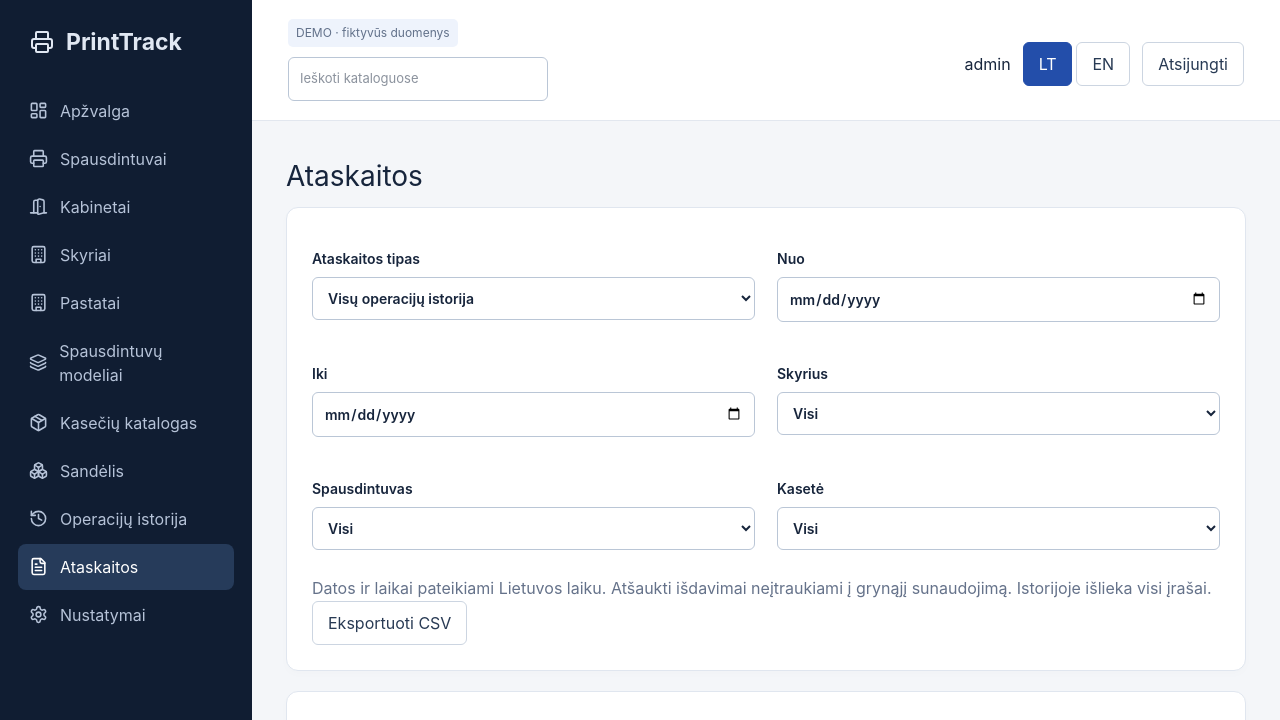
Test: internationalization › resets report selection when navigating to transaction history
This screenshot has width=1280, height=720.
Select "Dabartinis likutis" in the dropdown labelled "Ataskaitos tipas" at x=534, y=298, box [312,276,755,320]
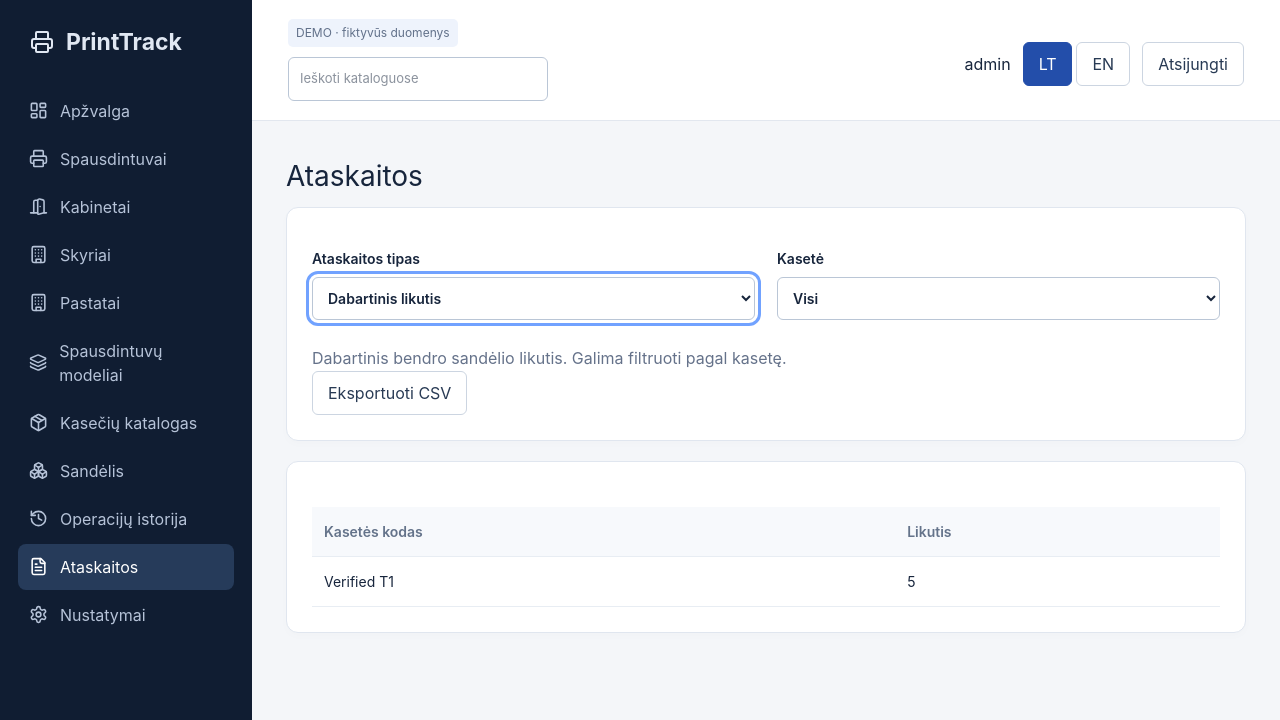
Click the link "Operacijų istorija".
click(108, 518)  # box [29,508,187,528]
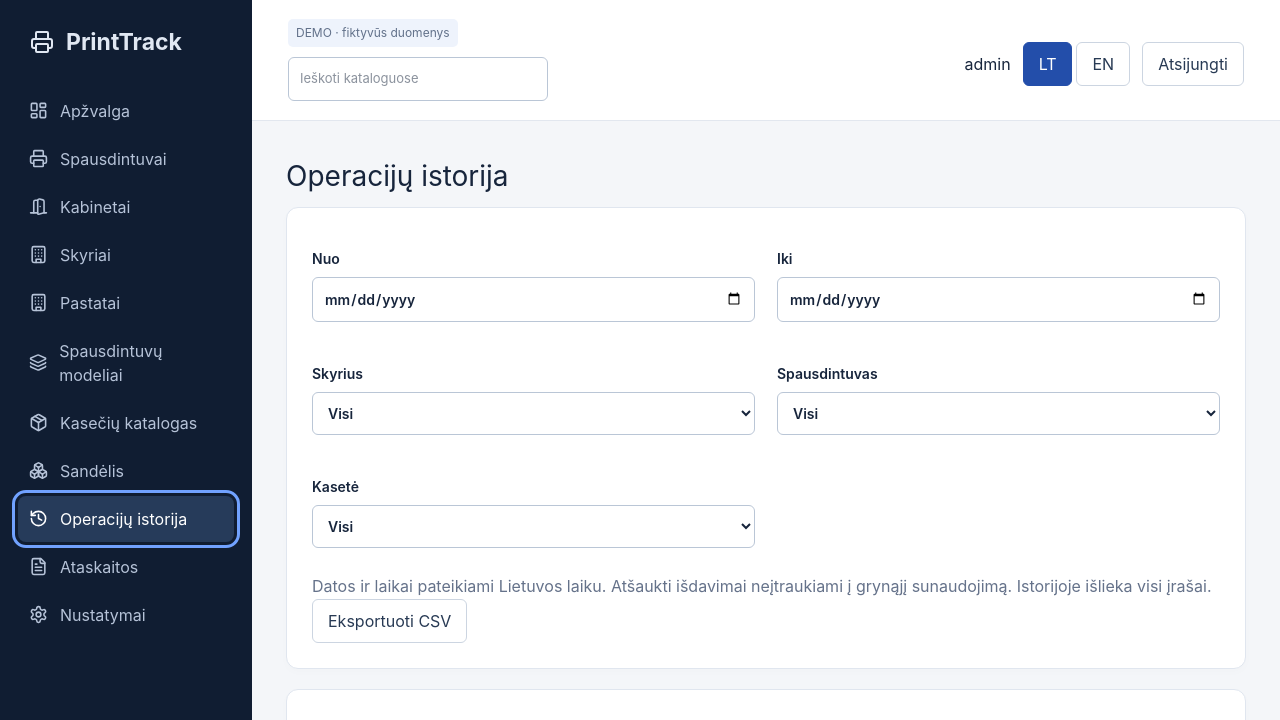
expect the label labelled "Ataskaitos tipas" is gone: met
expect the date field labelled "Nuo" is shown: met, box [312,276,755,322]
